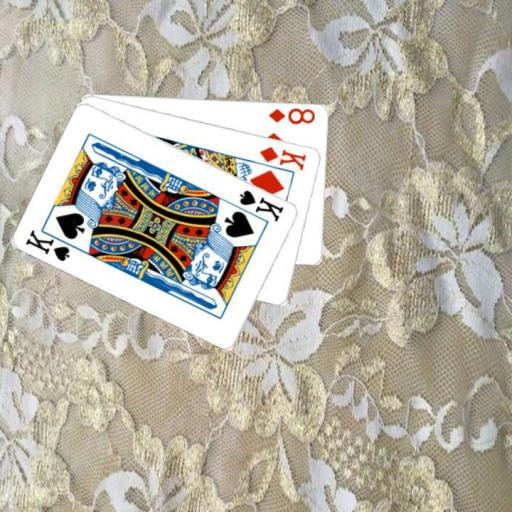8D: (265, 104, 317, 126)
KD: (257, 143, 308, 172)
KS: (23, 226, 80, 263), (236, 187, 286, 224)
